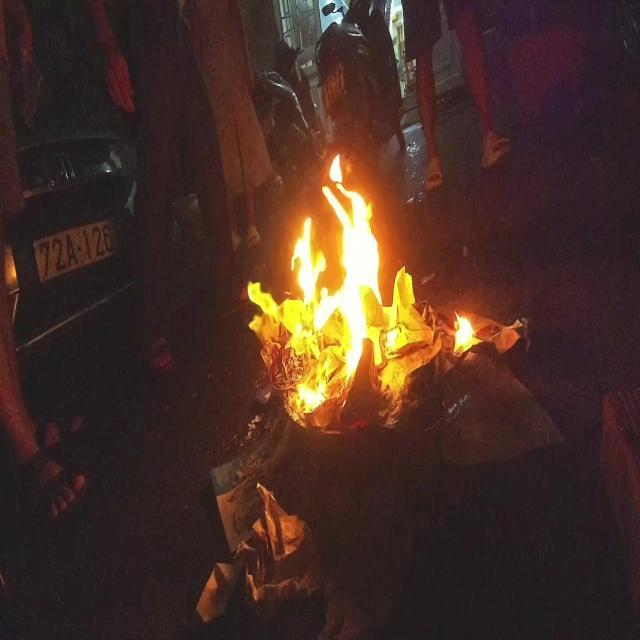Fire: (246, 151, 481, 425)
